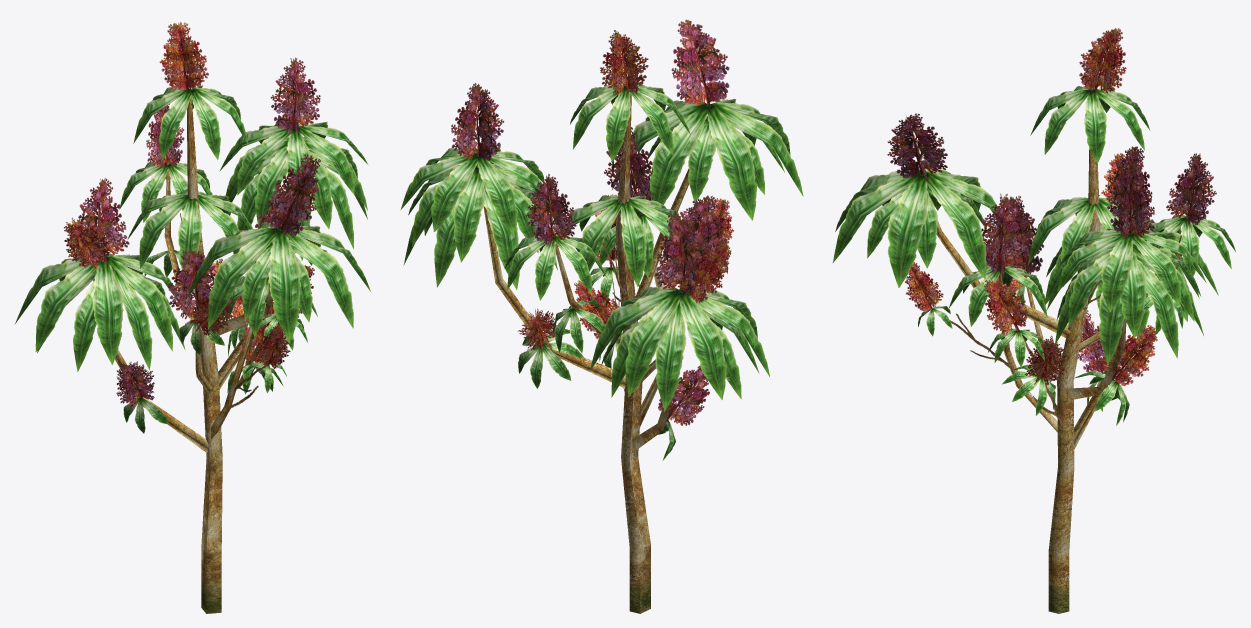
The model's file is ph_tree1.glb.
3 views of the same model, side by side, from view 1: azimuth 30°, elevation 25°; view 2: azimuth 150°, elevation 25°; view 3: azimuth 270°, elevation 25° (orthographic). The views are drawn at different scales.
Visible parts, largest first — view 1: ph_tree1; view 2: ph_tree1; view 3: ph_tree1.
Boxes of the visible parts, box(x1,y1,x2,y2) form: ph_tree1: box(14, 22, 371, 613); ph_tree1: box(400, 19, 803, 613); ph_tree1: box(832, 28, 1235, 613).
Bounding box in the file's own units: 8.85 × 14.62 × 9.15.
2 materials, 2 textured.
